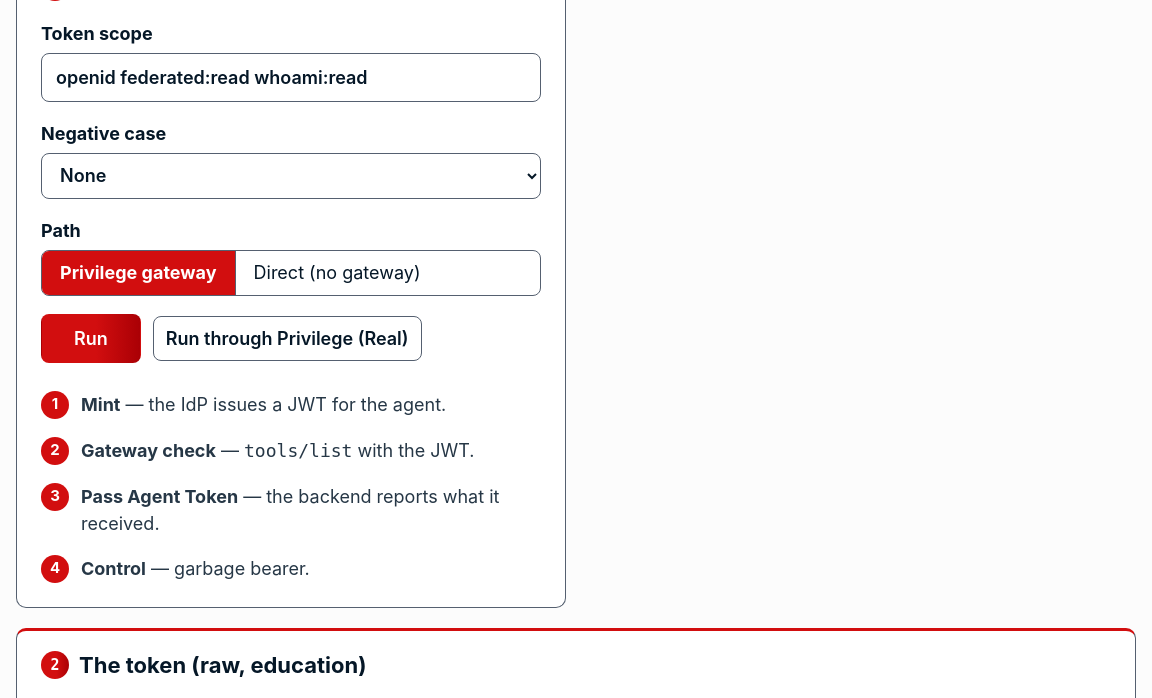
Workload Identity Lab › negative case shows the refusal stage
(page scrolled)
Click the button with test id "run-btn".
click(91, 338)  # box [41,314,141,363]
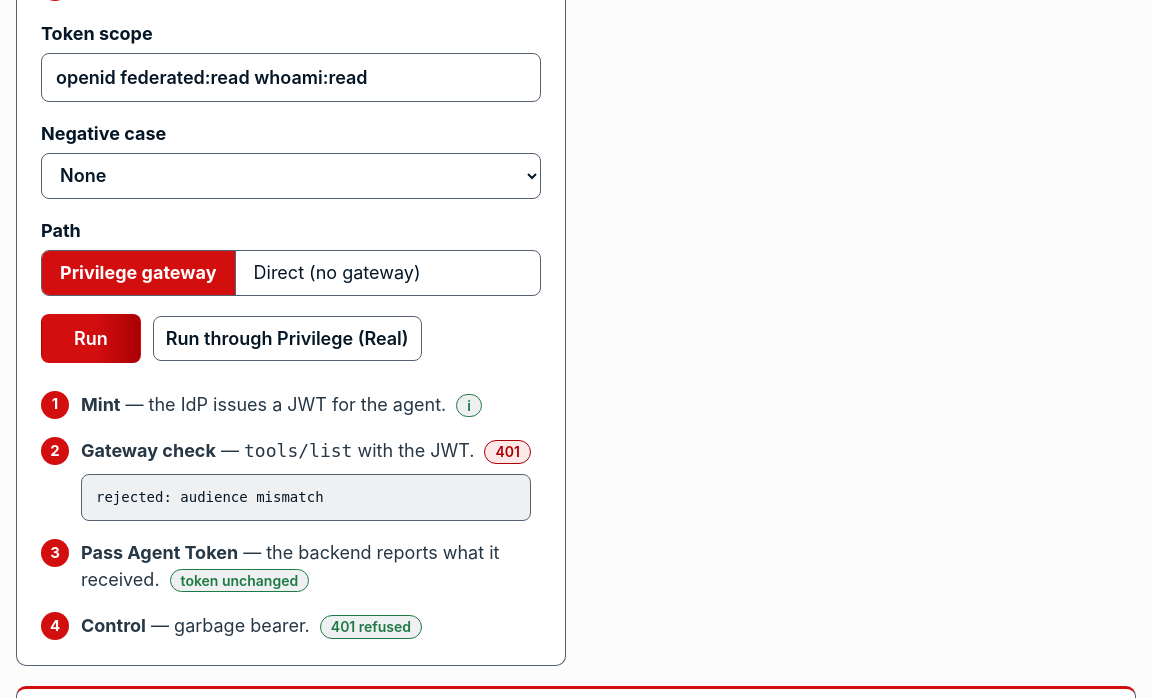
Check: the text "401" is shown, box [484,440,531,464]
